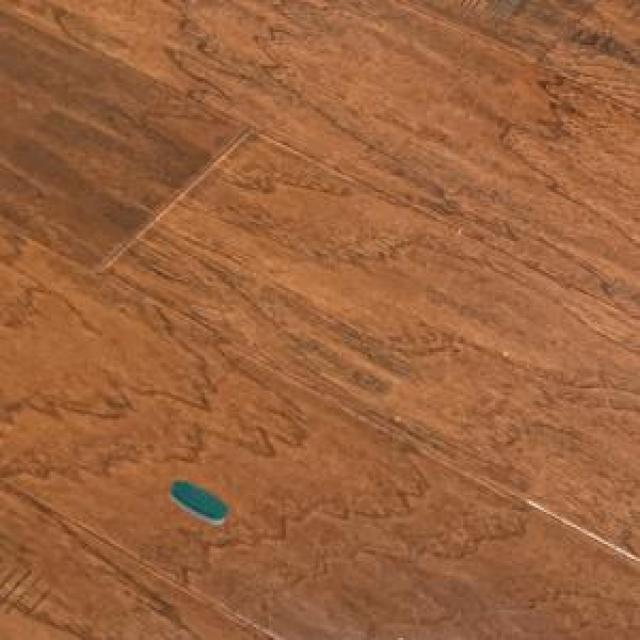Neozep: (166, 467, 236, 533)
